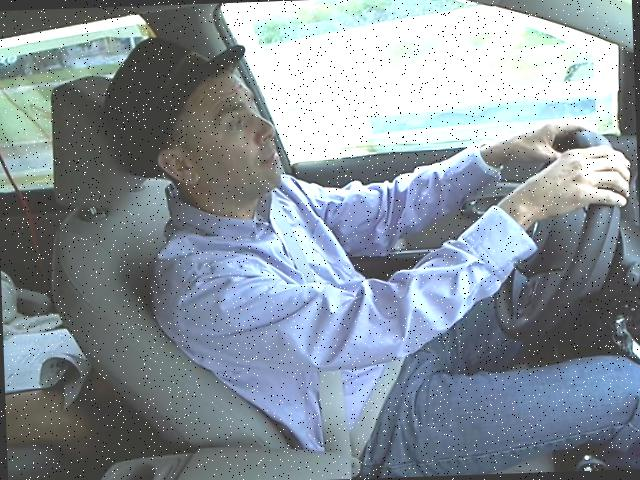c0 - Safe Driving: (93, 20, 639, 405)
